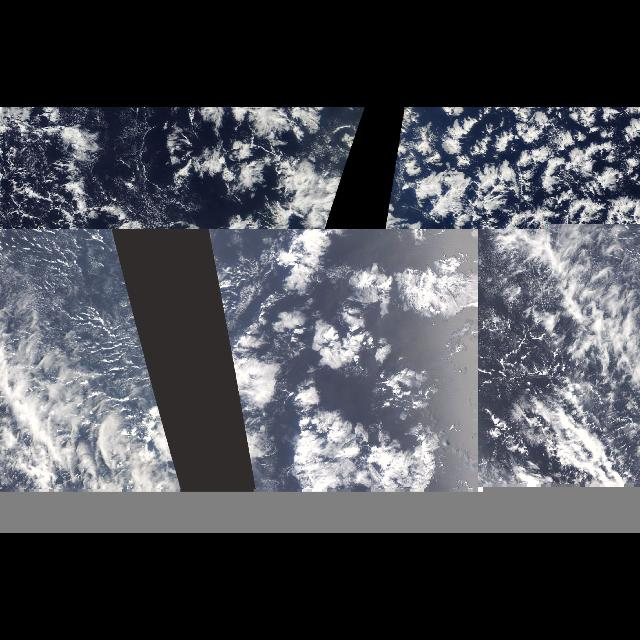Flower: (157, 109, 639, 488)
